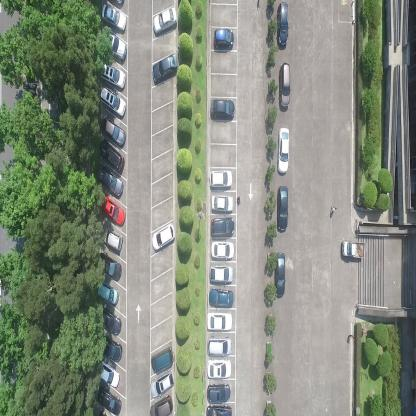car: (96, 163, 123, 199), (100, 113, 126, 148), (100, 84, 126, 118), (100, 194, 126, 227), (99, 138, 124, 172), (152, 52, 178, 84), (152, 6, 178, 36), (150, 368, 176, 398), (97, 385, 123, 415), (100, 60, 126, 89), (98, 251, 122, 282), (99, 304, 122, 336), (151, 222, 176, 251), (101, 3, 126, 32), (104, 30, 127, 61), (277, 61, 291, 111), (275, 2, 289, 50), (96, 279, 120, 306), (151, 345, 173, 373), (277, 125, 289, 175), (103, 224, 123, 254), (100, 360, 120, 389), (274, 250, 286, 298), (277, 184, 289, 232), (210, 97, 235, 120), (210, 215, 235, 238), (207, 334, 233, 356), (340, 240, 365, 262), (207, 358, 232, 380), (149, 394, 174, 416), (206, 311, 233, 331), (102, 334, 122, 361), (210, 168, 234, 190), (210, 263, 234, 285), (209, 286, 233, 308), (206, 382, 231, 402), (212, 27, 234, 49), (211, 240, 235, 260), (210, 194, 234, 212), (206, 403, 231, 415)
